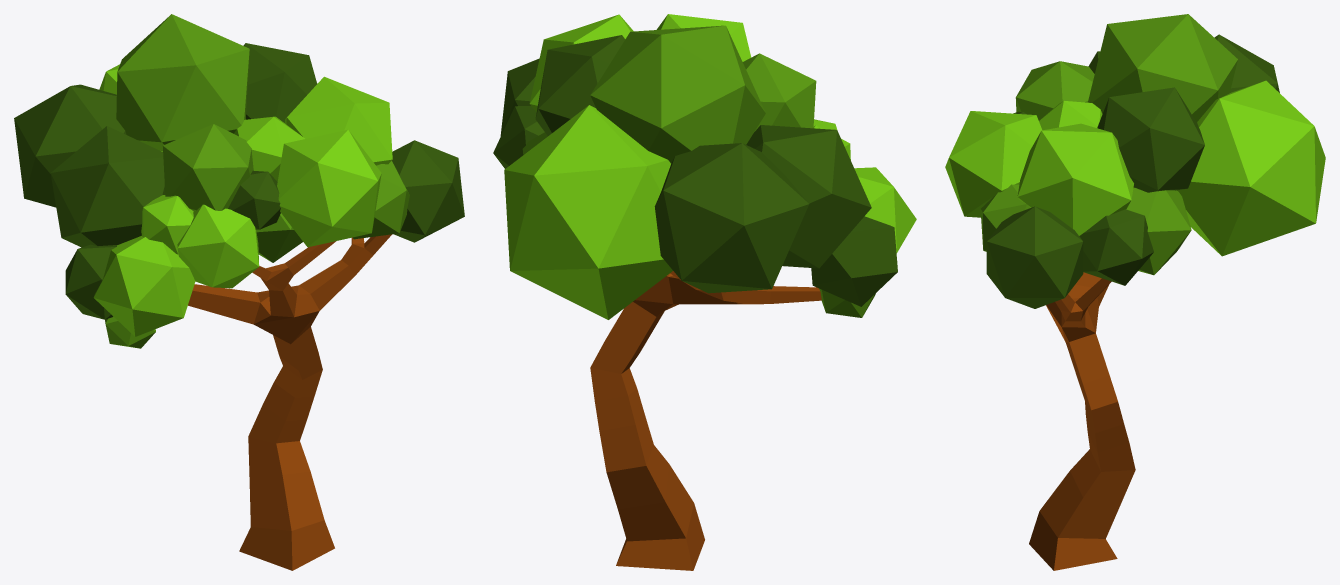
The model's file is Large Ico Tree.fbx.
The picture shows the model from 3 angles, left to right: view 1: azimuth 30°, elevation 25°; view 2: azimuth 150°, elevation 25°; view 3: azimuth 270°, elevation 25°; orthographic projection. The views are drawn at different scales.
Visible parts, largest first — view 1: Cube; view 2: Cube; view 3: Cube.
Boxes of the visible parts, left/top/right/bottom form: Cube: left=14, top=14, right=464, bottom=570; Cube: left=493, top=14, right=916, bottom=570; Cube: left=945, top=14, right=1325, bottom=570.
Size of what is drawn, in the model's own units: 748 by 992 by 671.
